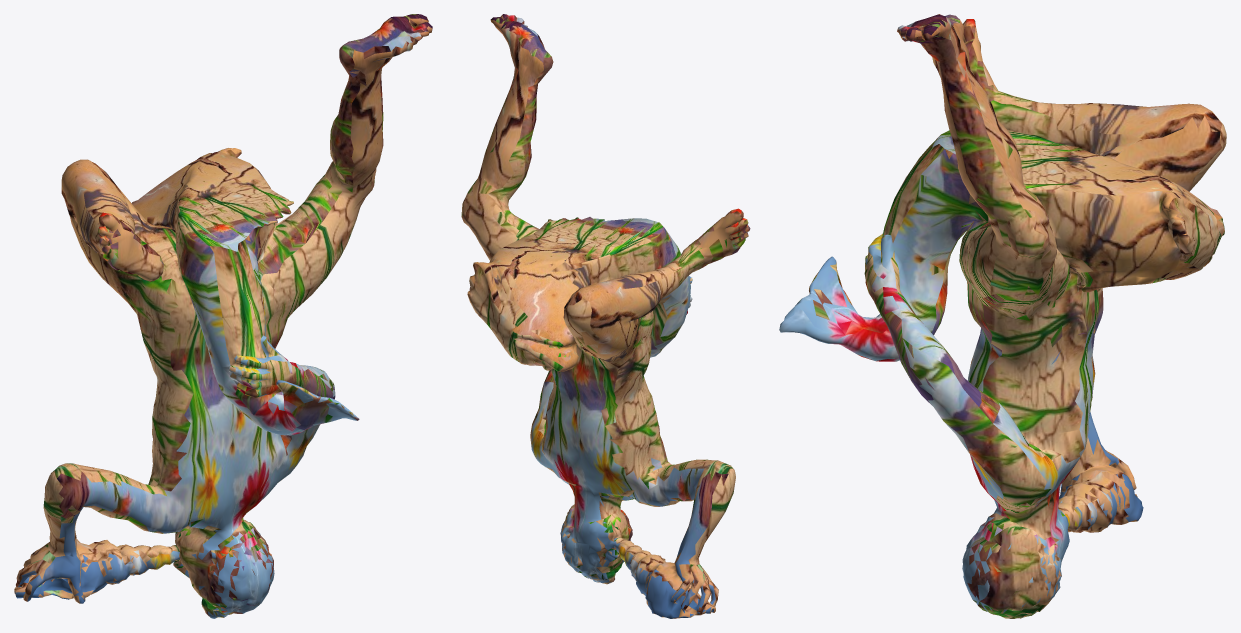
File: tds_triton.glb
3 views of the same model, side by side, from view 1: azimuth 30°, elevation 25°; view 2: azimuth 150°, elevation 25°; view 3: azimuth 270°, elevation 25° (orthographic). The views are drawn at different scales.
Parts seen in each view (by area): view 1: A; view 2: A; view 3: A.
Boxes of the visible parts, x1,y1,x2,y2 form: A: [14, 14, 432, 618]; A: [461, 14, 750, 618]; A: [779, 14, 1226, 618].
Size of the model in its own units: 1.19 by 2 by 1.19.
1 material, 1 textured.
